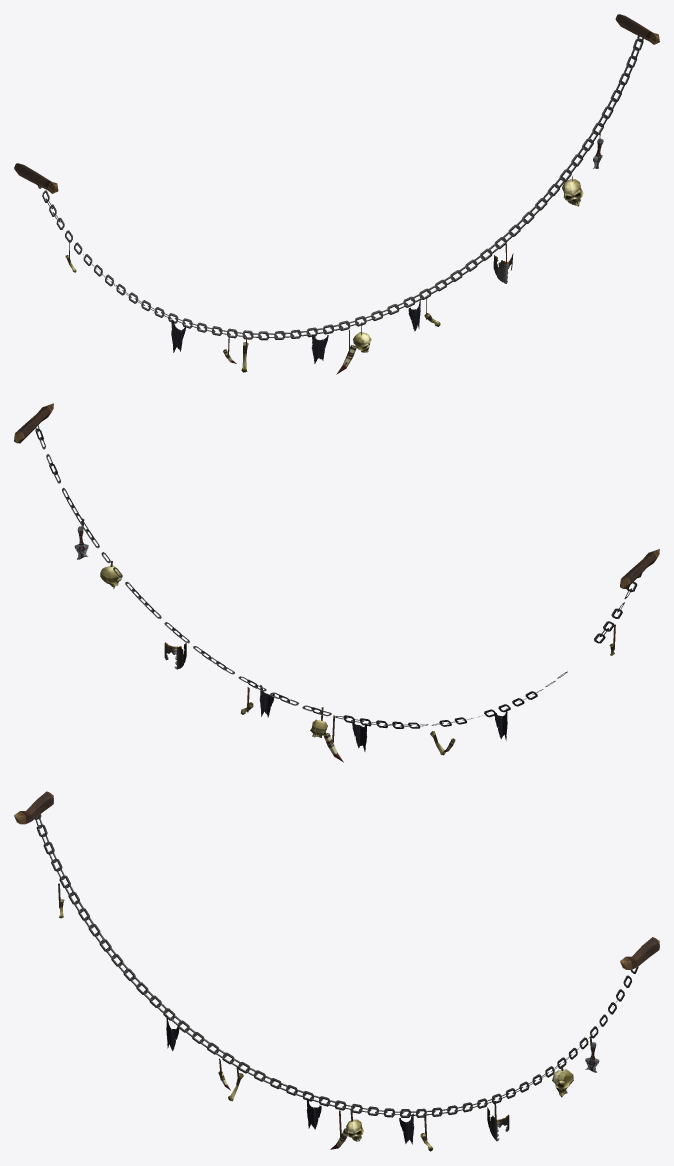
The model's file is chain_three.fbx.
3 views of the same model, one above another, from view 1: azimuth 30°, elevation 25°; view 2: azimuth 150°, elevation 25°; view 3: azimuth 330°, elevation 25° (orthographic).
Parts seen in each view (by area): view 1: obj1.022; view 2: obj1.022; view 3: obj1.022.
Part boxes in pixels (x1,y1,x2,y2): obj1.022: (14,14,659,374); obj1.022: (14,403,659,762); obj1.022: (14,791,659,1151).
Bounding box in the file's own units: 12.56 × 5.35 × 1.44.
